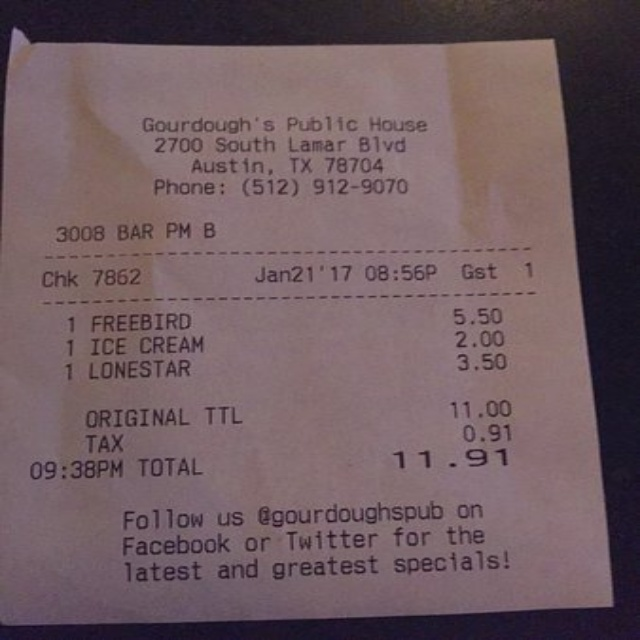invoice_table: (64, 306, 507, 382)
invoice_title: (137, 113, 428, 198)
invoice_total: (134, 448, 508, 476)
